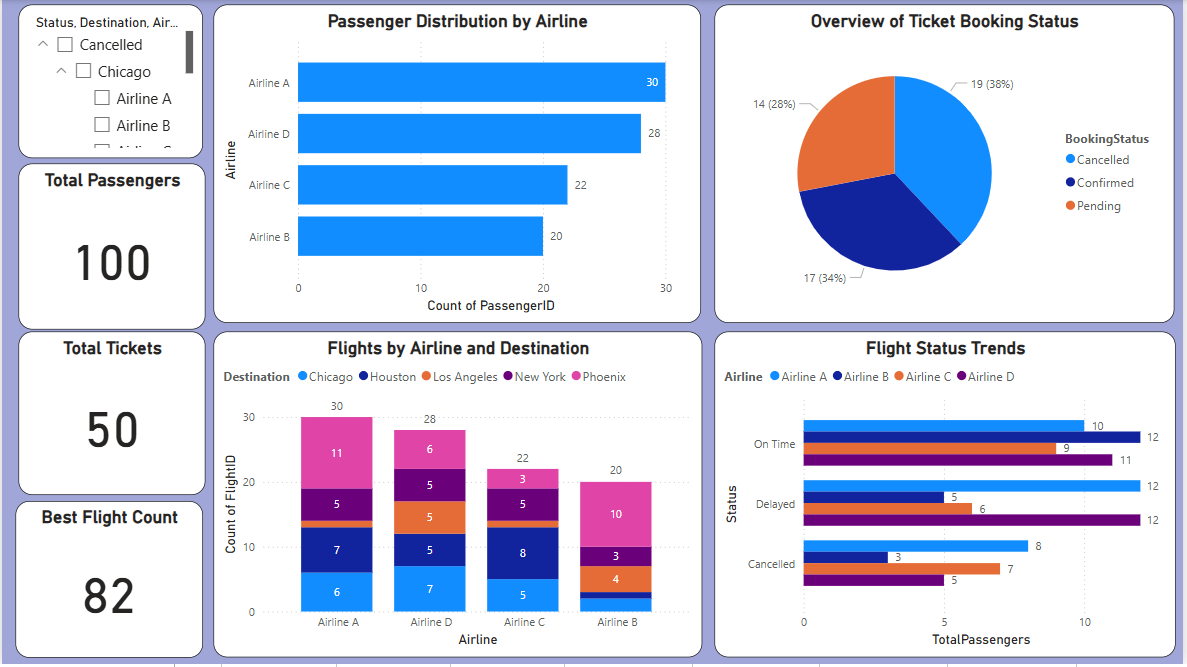

The dashboard page shown, as its layout file describes it:
{"tool":"powerbi","page":{"name":"Page 4","canvas":[1280,720],"ordinal":8},"visuals":[{"type":"card","title":"Total Passengers","fields":{"Values":["passenger_information.TotalPassengers"]},"box":[17.5,177,202.5,180],"z":0},{"type":"card","title":"Total Tickets","fields":{"Values":["CountNonNull(ticket_information.TicketID)"]},"box":[17.5,360,202.5,177.5],"z":1000},{"type":"card","title":"Best Flight Count","fields":{"Values":["CountNonNull(BestFlights.FlightID)"]},"box":[15,543.3,203.3,170],"z":2000},{"type":"clusteredBarChart","title":"Passenger Distribution by Airline","fields":{"Category":["flight_information.Airline"],"Y":["CountNonNull(passenger_information.PassengerID)"]},"box":[230,5,528.3,345],"z":3000},{"type":"pieChart","title":"Overview of Ticket Booking Status","fields":{"Category":["ticket_information.BookingStatus"],"Y":["CountNonNull(ticket_information.TicketID)"]},"box":[773.3,5,498.3,345],"z":4000},{"type":"columnChart","title":"Flights by Airline and Destination","fields":{"Category":["flight_information.Airline"],"Y":["CountNonNull(passenger_information.FlightID)"],"Series":["flight_information.Destination"]},"box":[230,360,530,353],"z":5000},{"type":"clusteredBarChart","title":" Flight Status Trends","fields":{"Category":["flight_information.Status"],"Y":["passenger_information.TotalPassengers"],"Series":["flight_information.Airline"]},"box":[772.5,360,500,353],"z":6000},{"type":"slicer","fields":{"Values":["flight_information.Status","flight_information.Destination","flight_information.Airline"]},"box":[18.3,5,200,166.7],"z":6001}]}

Visuals, with their boxes in screenshot pixels (x1, y1, x2, y2), scaled from the page's 1280x720 canvas onto the 1187x667 screenshot:
"Total Passengers" card: 16, 164, 204, 331
"Total Tickets" card: 16, 334, 204, 498
"Best Flight Count" card: 14, 503, 202, 661
"Passenger Distribution by Airline" clusteredBarChart: 213, 5, 703, 324
"Overview of Ticket Booking Status" pieChart: 717, 5, 1179, 324
"Flights by Airline and Destination" columnChart: 213, 334, 705, 661
" Flight Status Trends" clusteredBarChart: 716, 334, 1180, 661
slicer - flight_information.Status x flight_information.Destination: 17, 5, 202, 159
